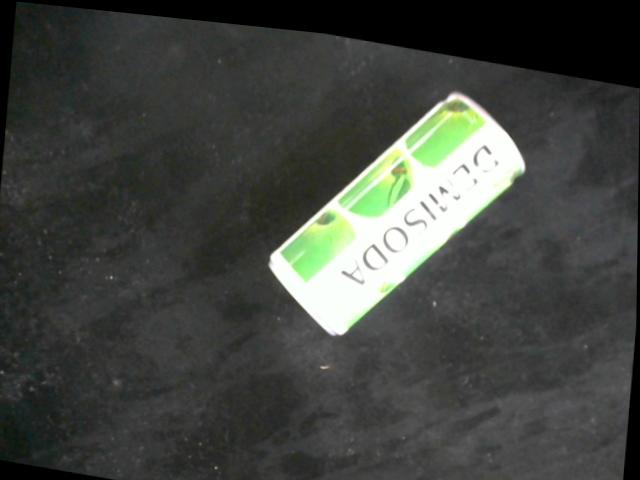can: (266, 80, 527, 330)
